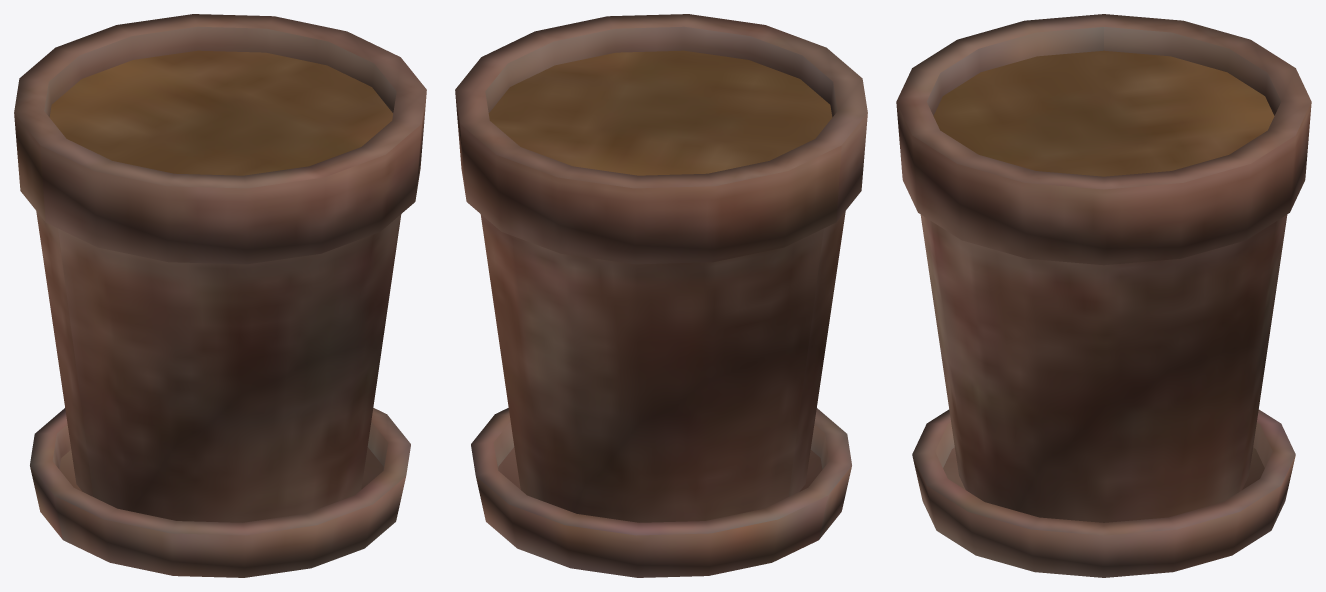
File: flower_pot_small_ground_pink.glb
3 renders of one model, left to right at view 1: azimuth 30°, elevation 25°; view 2: azimuth 150°, elevation 25°; view 3: azimuth 270°, elevation 25°, orthographic.
Parts seen in each view (by area): view 1: env_flowerpot_01_small_soil_01_a; view 2: env_flowerpot_01_small_soil_01_a; view 3: env_flowerpot_01_small_soil_01_a.
Part boxes in pixels (box(x1,y1,x2,y2)): env_flowerpot_01_small_soil_01_a: box(14, 14, 426, 577); env_flowerpot_01_small_soil_01_a: box(455, 14, 867, 577); env_flowerpot_01_small_soil_01_a: box(896, 14, 1311, 577).
Bounding box in the file's own units: 0.3746 × 0.3976 × 0.3746.
Materials: 1 (1 with a texture image).
